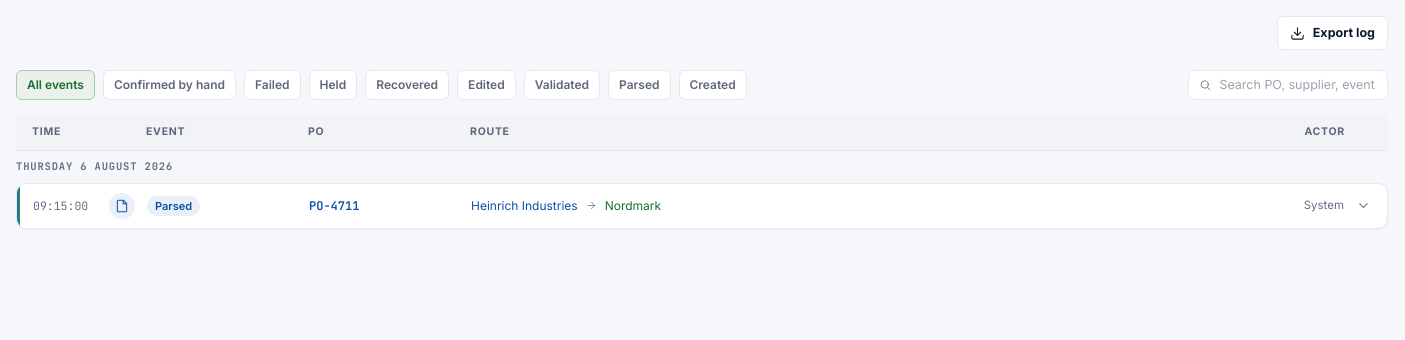
Scenario: CrossingsLog — the empty state says how far it looked › does not claim a partial window when the whole log is loaded
Expected: the text "PO-4711" is shown, x1=309 y1=198 x2=359 y2=214
Click the button "Failed". click: (272, 85)
box: x1=244 y1=70 x2=301 y2=100
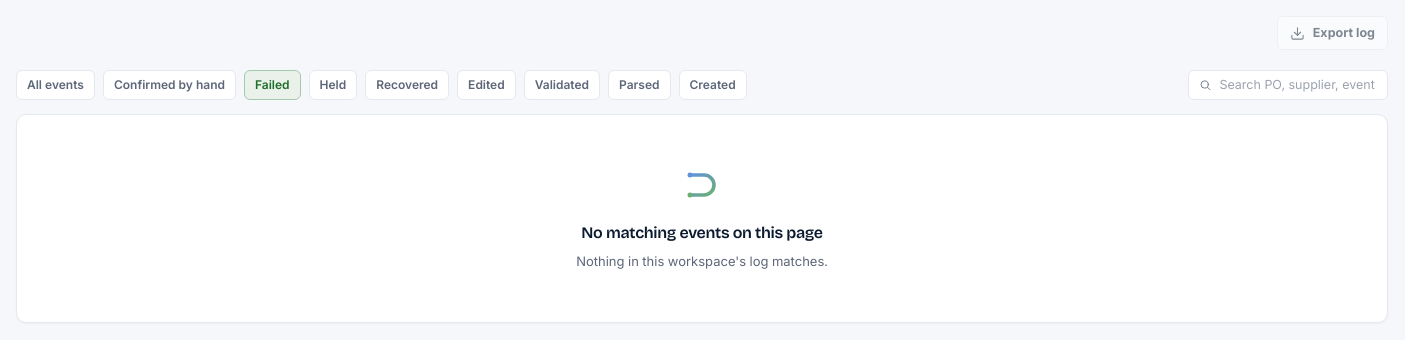
Expected: the text "Nothing in this workspace's log matches." is shown, x1=576 y1=251 x2=828 y2=272
